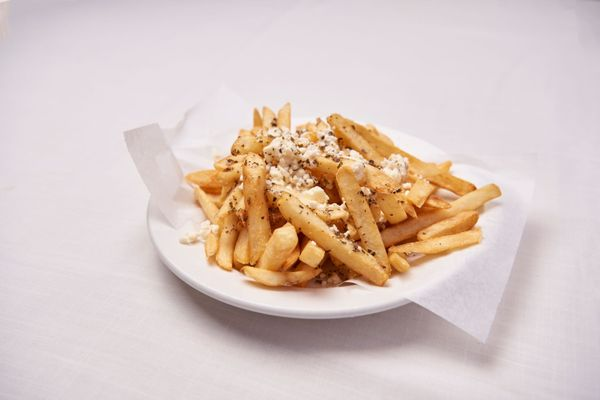curry: (0, 2, 583, 394)
